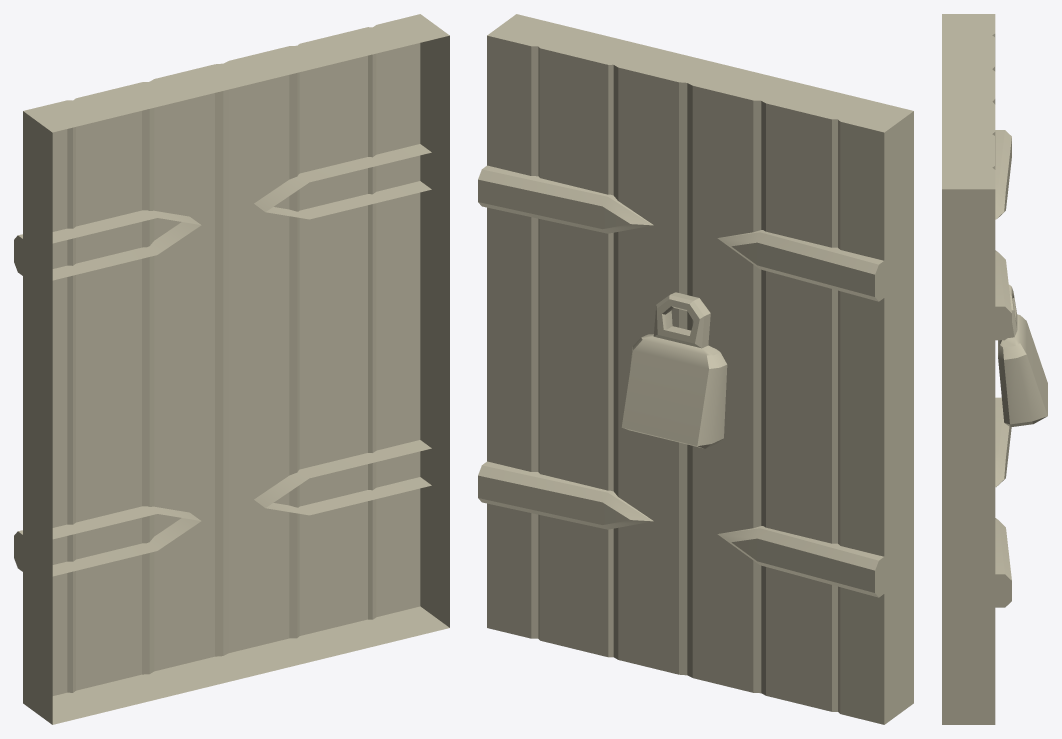
Rendered from DoorLocked.fbx.
3 renders of one model, left to right at view 1: azimuth 30°, elevation 25°; view 2: azimuth 150°, elevation 25°; view 3: azimuth 270°, elevation 25°, orthographic. The views are drawn at different scales.
Parts seen in each view (by area): view 1: DoorLocked; view 2: DoorLocked, Lock; view 3: DoorLocked, Lock.
Boxes of the visible parts, left/top/right/bottom form: DoorLocked: left=14, top=14, right=449, bottom=724; DoorLocked: left=478, top=14, right=913, bottom=724; Lock: left=621, top=292, right=727, bottom=448; DoorLocked: left=942, top=14, right=1011, bottom=724; Lock: left=998, top=284, right=1047, bottom=427.
Size of the model in its own units: 1 by 1.42 by 0.255.
